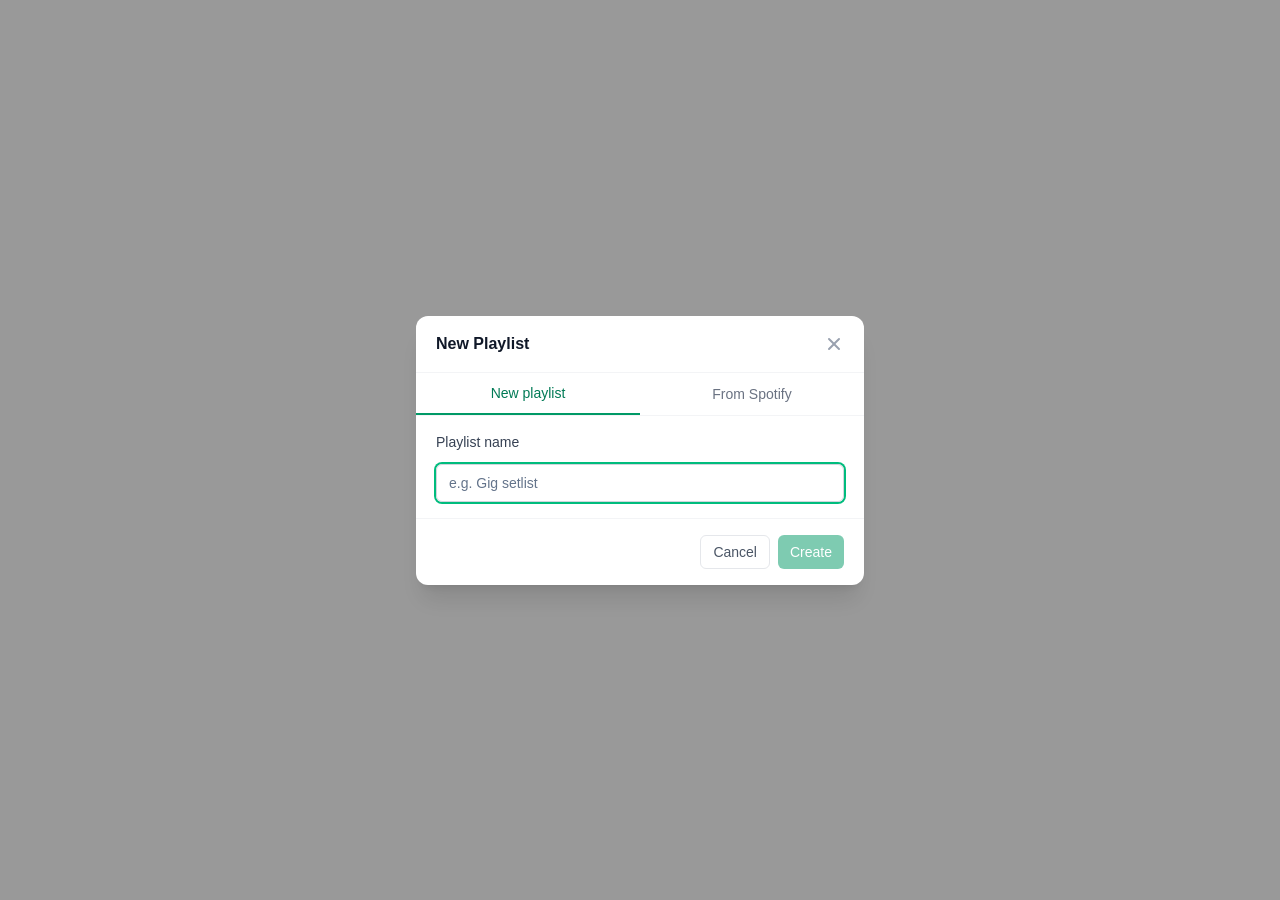
CreatePlaylistModal › requests the Spotify playlist list once when the From Spotify tab is opened
Click the button "From Spotify": click(752, 394) [640,372,864,414]
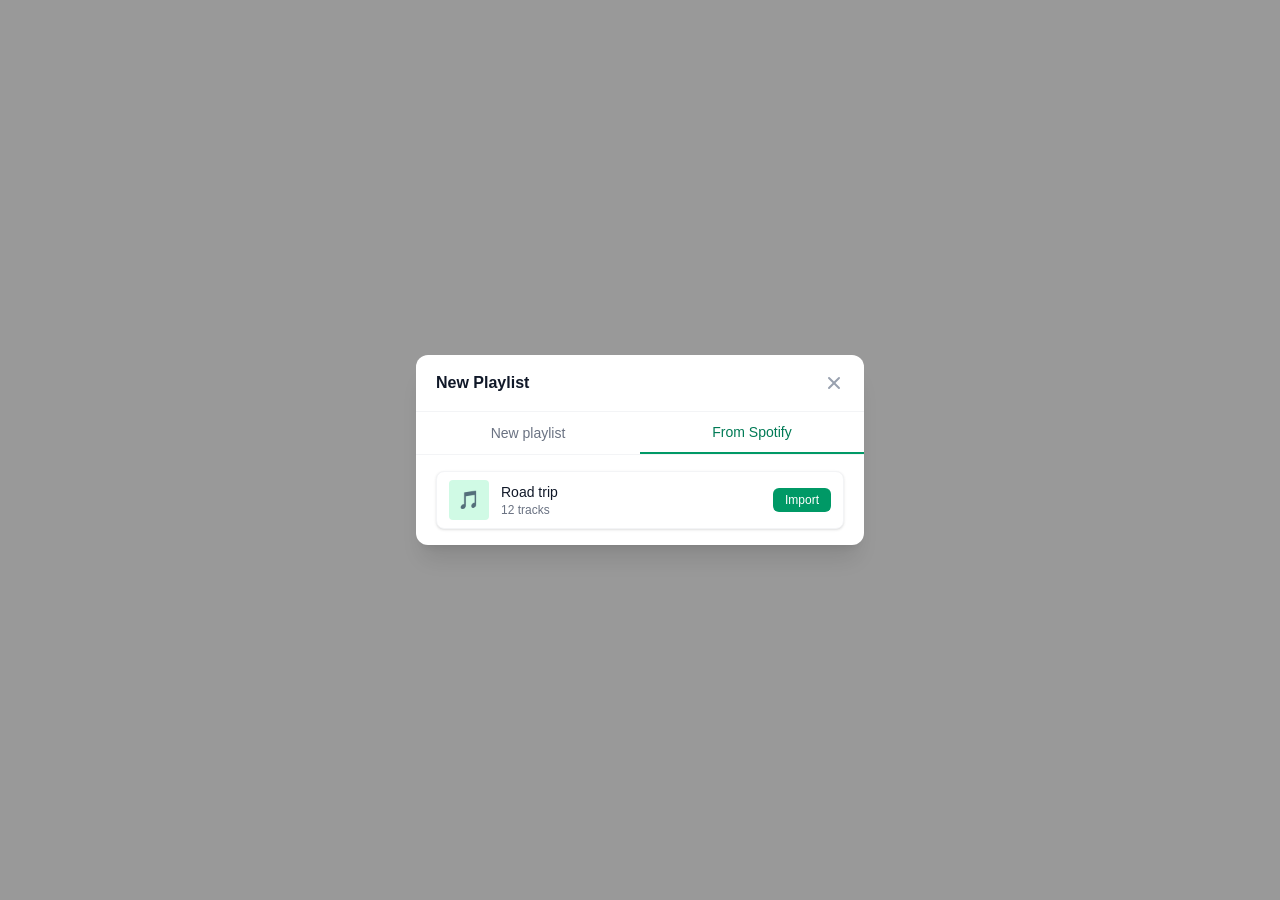
Result: the text "Road trip" is shown at [501,484,558,500]
Click the button "New playlist": click(528, 433) [416,412,640,454]
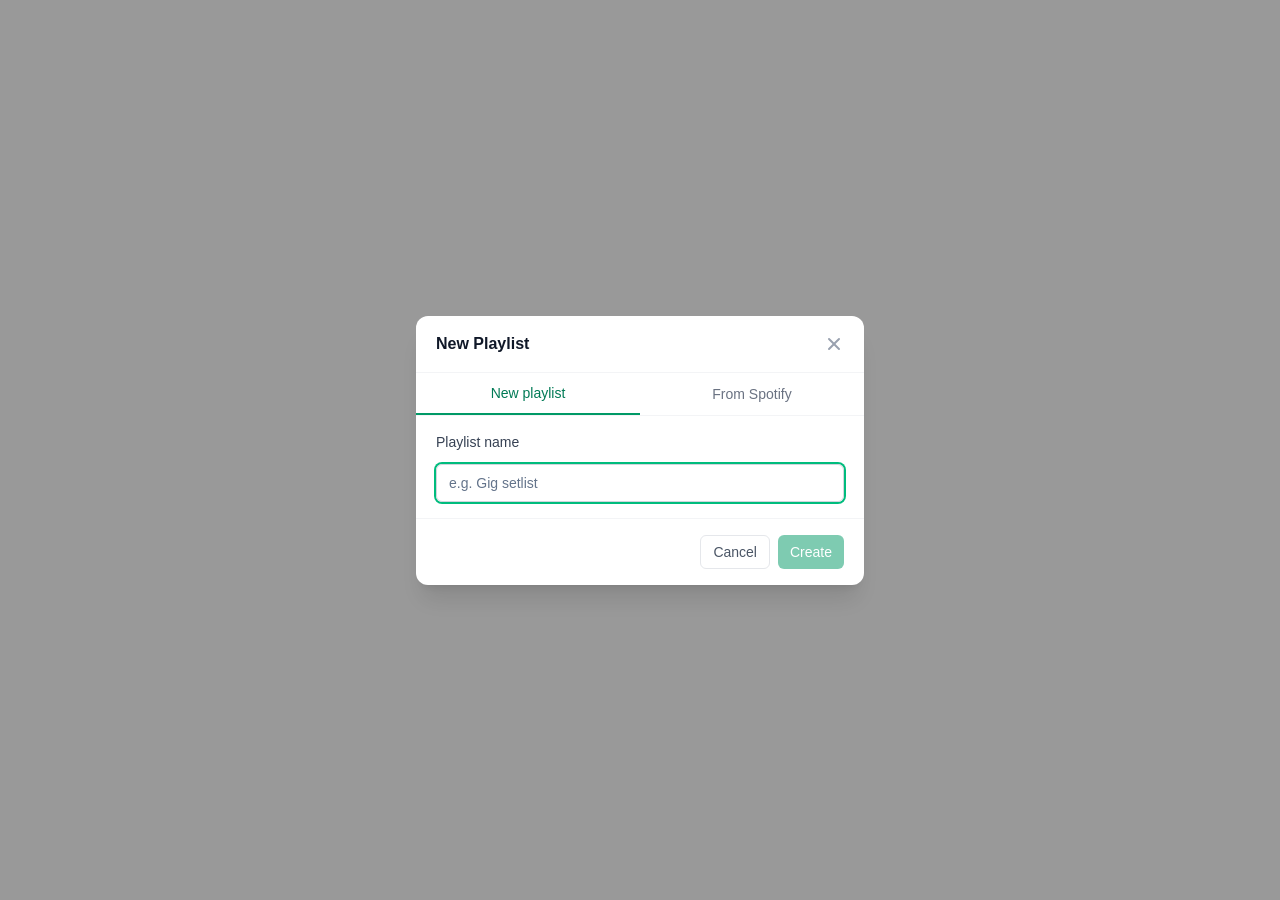
Click the button "From Spotify": click(752, 394) [640,372,864,414]
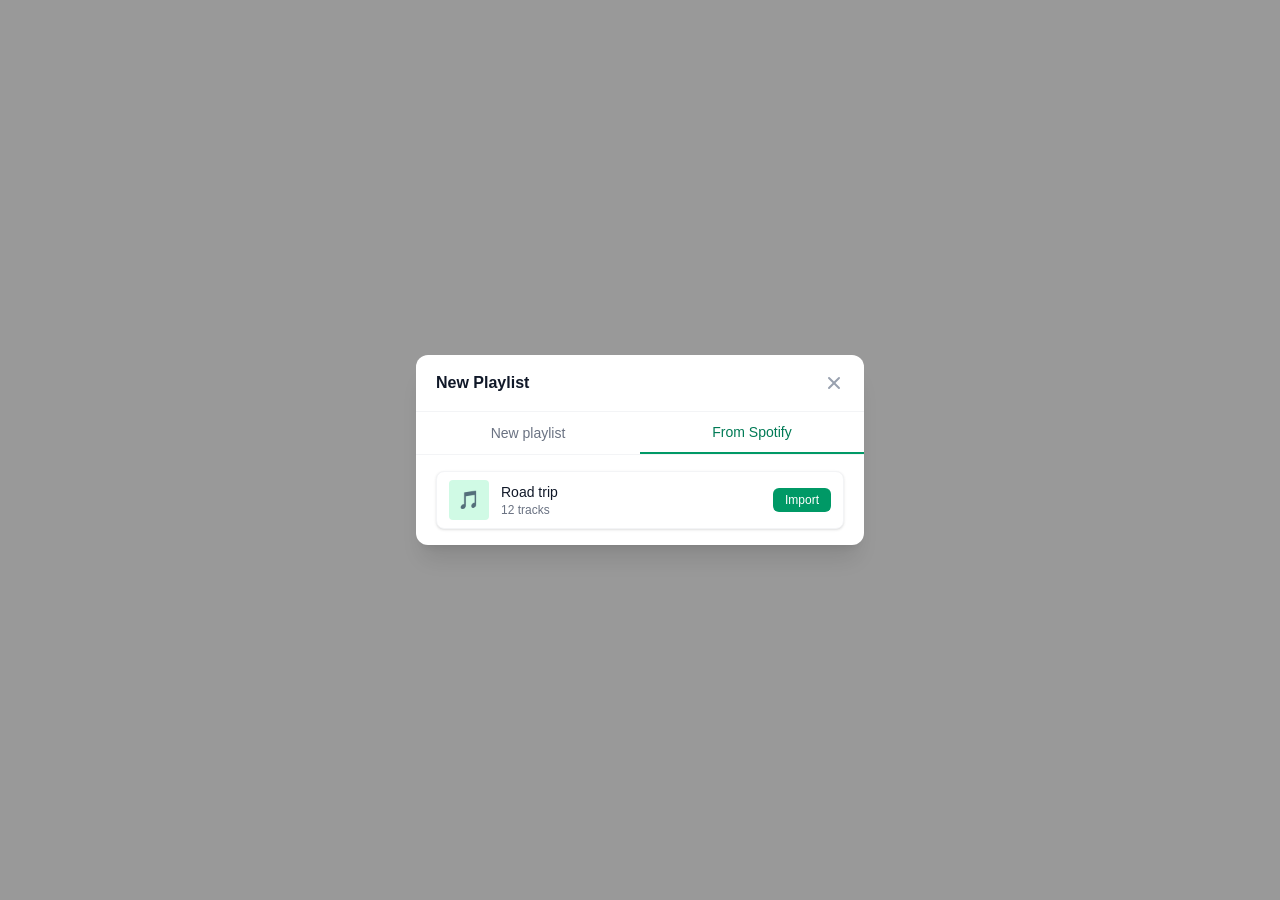
Result: the text "Road trip" is shown at [501,484,558,500]
